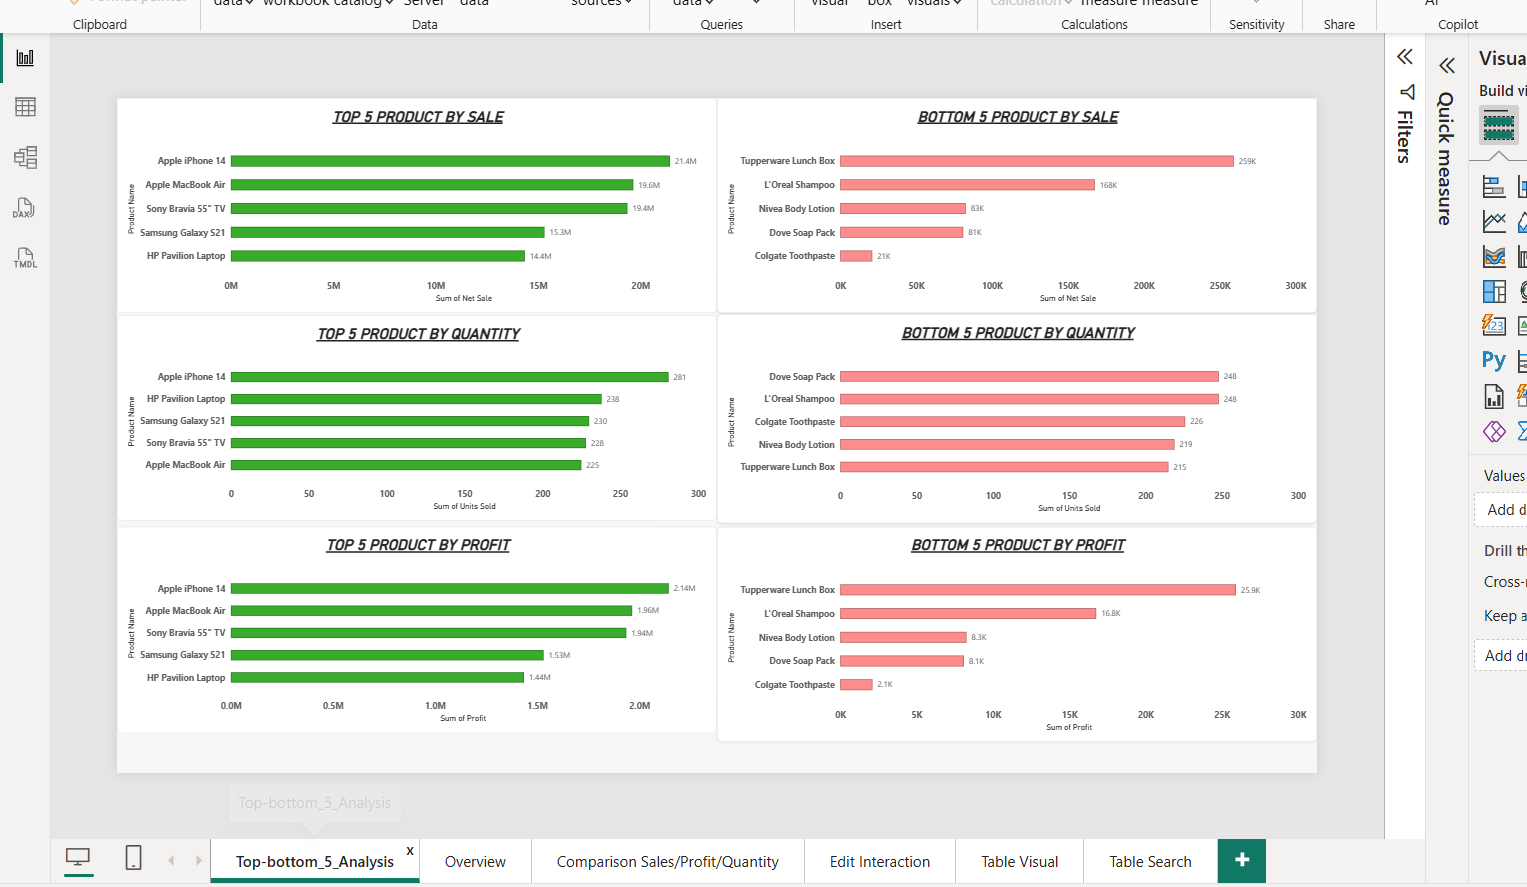

Layout of this report page (visuals, bound fields, positions):
{"tool":"powerbi","page":{"name":"Top-bottom_5_Analysis ","canvas":[1920,1080],"ordinal":0},"visuals":[{"type":"barChart","title":"TOP 5  PRODUCT BY SALE","fields":{"Category":["Dim Product.Product Name"],"Y":["Sum(Fact table.Net Sale)"]},"box":[0,0,960,344],"z":0},{"type":"barChart","title":"BOTTOM 5  PRODUCT BY SALE","fields":{"Category":["Dim Product.Product Name"],"Y":["Sum(Fact table.Net Sale)"]},"box":[960,0,960,344],"z":1000},{"type":"barChart","title":"TOP 5  PRODUCT BY QUANTITY ","fields":{"Category":["Dim Product.Product Name"],"Y":["Sum(Fact table.Units Sold)"]},"box":[0,348,960,328],"z":2000},{"type":"barChart","title":"BOTTOM 5  PRODUCT BY QUANTITY ","fields":{"Category":["Dim Product.Product Name"],"Y":["Sum(Fact table.Units Sold)"]},"box":[960,346,960,334],"z":3000},{"type":"barChart","title":"TOP 5  PRODUCT BY PROFIT","fields":{"Category":["Dim Product.Product Name"],"Y":["Sum(Fact table.Profit)"]},"box":[0,686,960,330],"z":4000},{"type":"barChart","title":"BOTTOM 5  PRODUCT BY PROFIT","fields":{"Category":["Dim Product.Product Name"],"Y":["Sum(Fact table.Profit)"]},"box":[960,686,960,344],"z":5000}]}

Visuals, with their boxes on the page's 1920x1080 design canvas (x1, y1, x2, y2). These are canvas units, not pixel positions in the 1527x887 screenshot, which may show the page scaled, cropped or inside an application window:
"TOP 5  PRODUCT BY SALE" barChart: [left=0, top=0, right=960, bottom=344]
"BOTTOM 5  PRODUCT BY SALE" barChart: [left=960, top=0, right=1920, bottom=344]
"TOP 5  PRODUCT BY QUANTITY " barChart: [left=0, top=348, right=960, bottom=676]
"BOTTOM 5  PRODUCT BY QUANTITY " barChart: [left=960, top=346, right=1920, bottom=680]
"TOP 5  PRODUCT BY PROFIT" barChart: [left=0, top=686, right=960, bottom=1016]
"BOTTOM 5  PRODUCT BY PROFIT" barChart: [left=960, top=686, right=1920, bottom=1030]
